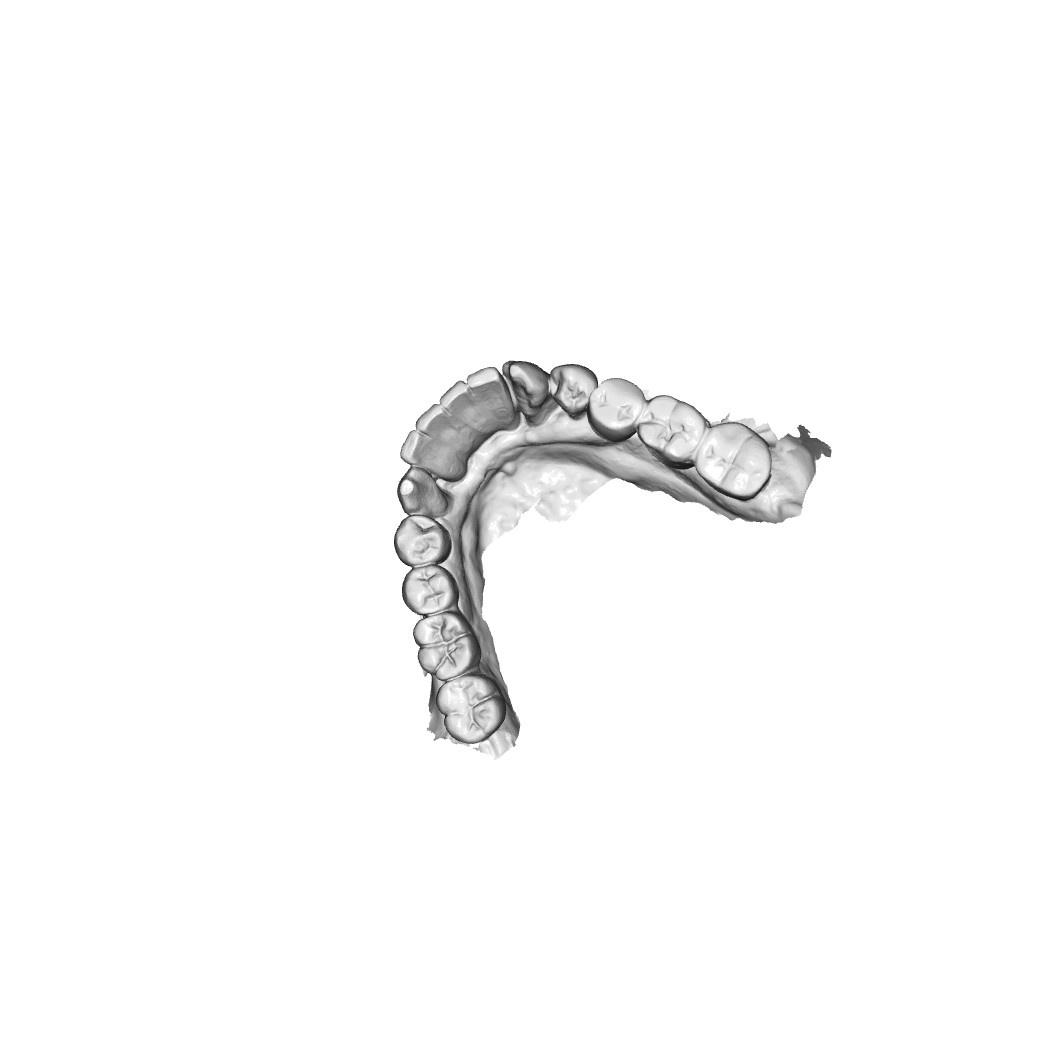canine: (500, 354, 550, 419), (395, 465, 447, 515)
incisor: (461, 364, 510, 410), (413, 400, 462, 445), (400, 429, 449, 474), (437, 378, 479, 424)
molar: (691, 419, 772, 501), (631, 389, 709, 468), (435, 673, 508, 746), (409, 609, 479, 680)
premolar: (589, 375, 646, 443), (390, 513, 453, 568), (401, 564, 460, 618), (546, 363, 600, 418)
